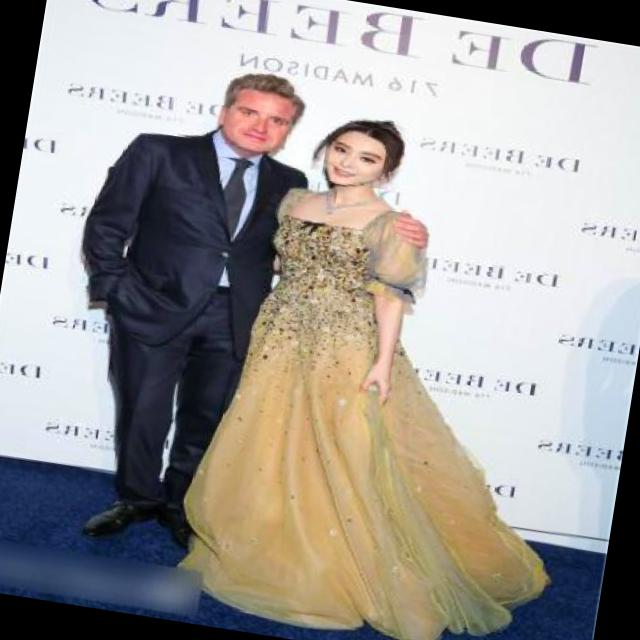Person: (64, 46, 348, 567), (208, 107, 485, 600)
